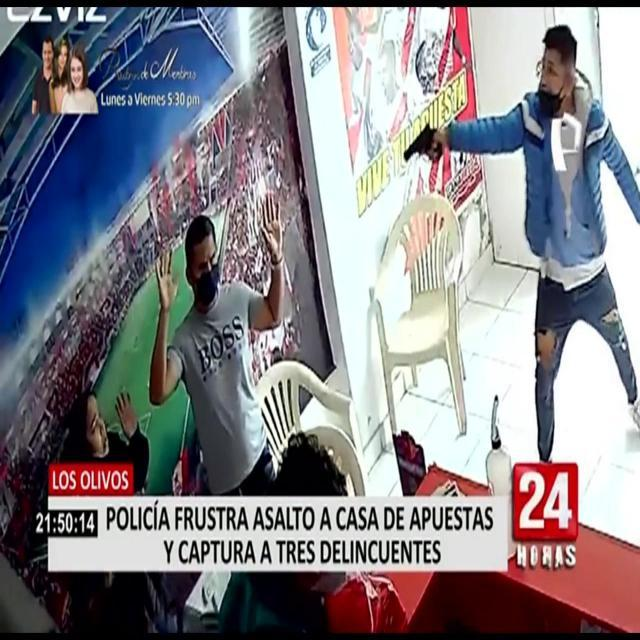weapon: (388, 104, 450, 188)
